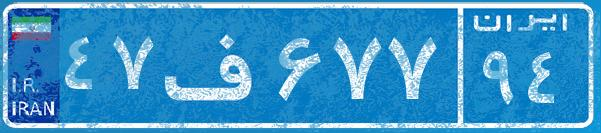4: (57, 26, 110, 107), (525, 38, 570, 115)
6: (273, 28, 330, 110)
7: (385, 28, 445, 110), (330, 28, 385, 110), (110, 28, 158, 105)
9: (475, 38, 525, 113)
ف: (158, 15, 273, 115)
